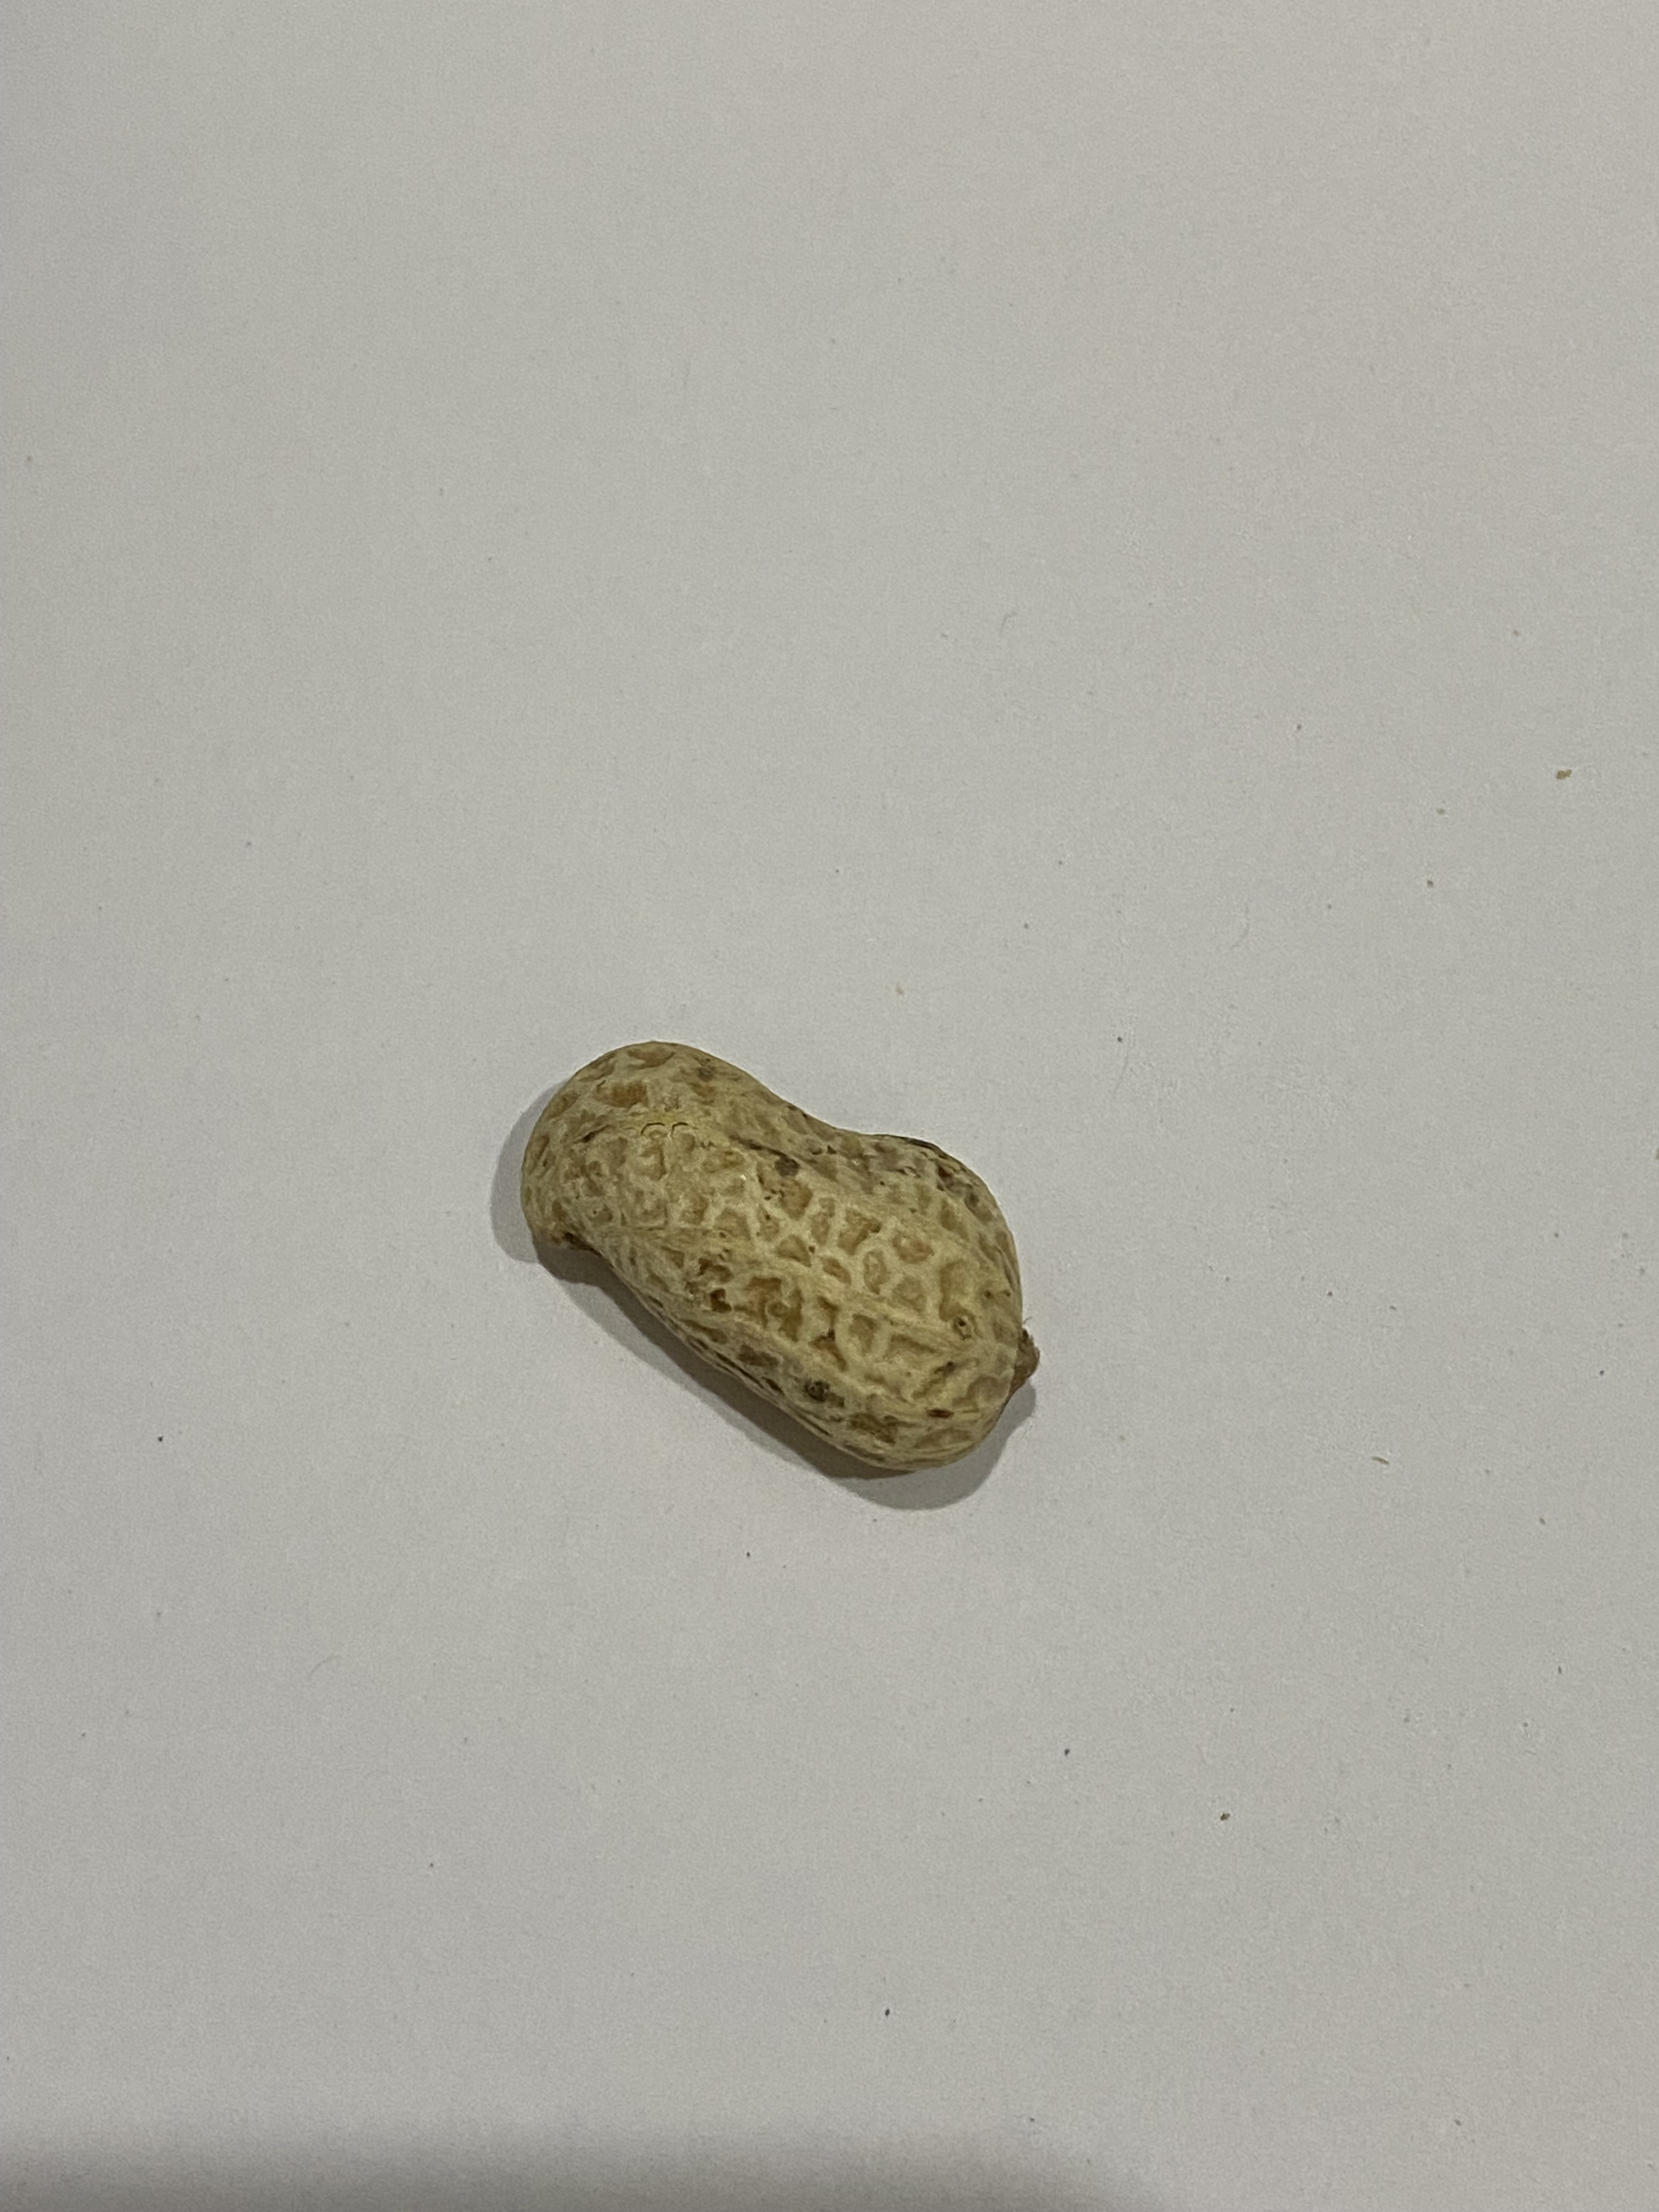kacang2: (502, 1003, 1044, 1480)
